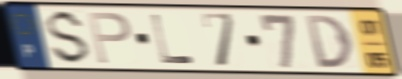7: (257, 12, 300, 71), (200, 11, 236, 69)
D: (303, 13, 356, 70)
L: (148, 12, 197, 66)
P: (85, 10, 134, 66)
S: (45, 8, 94, 68)
